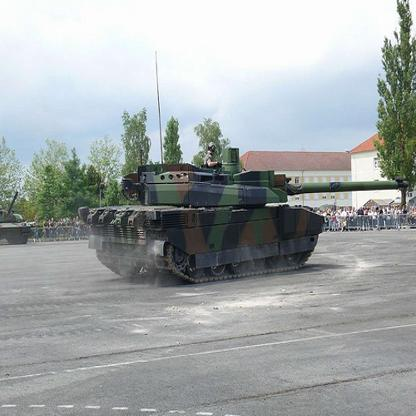Tank: (76, 134, 416, 294)
